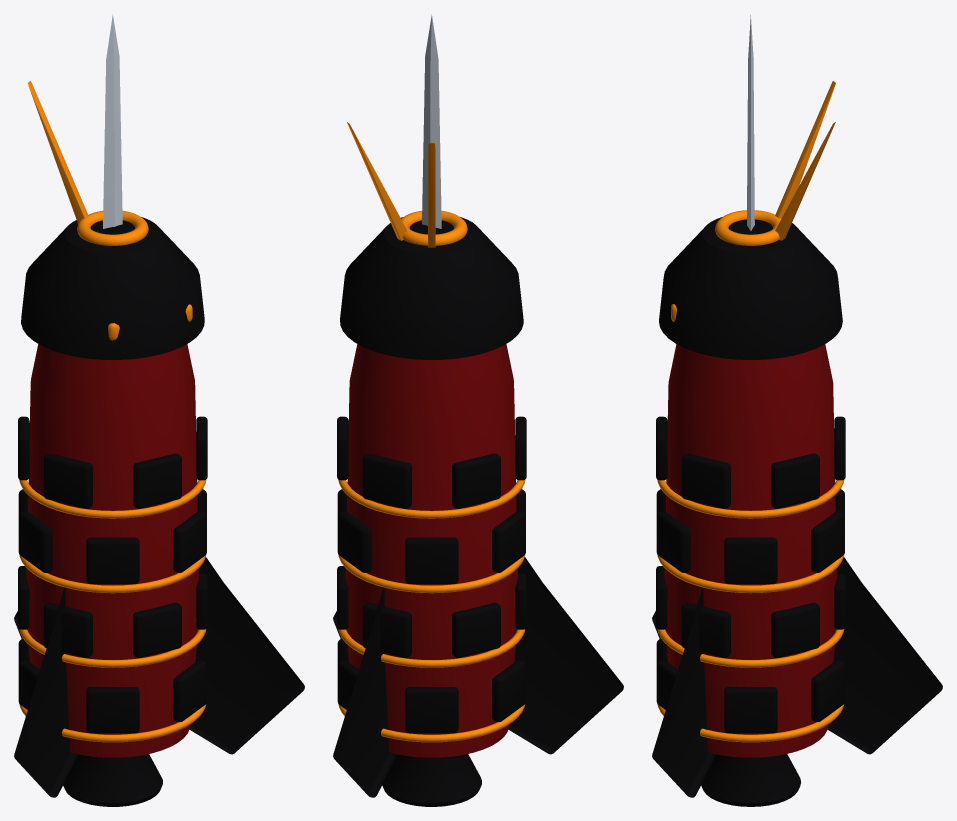
The model's file is Rocket_36_Samurai.obj.
The picture shows the model from 3 angles, left to right: view 1: azimuth 30°, elevation 25°; view 2: azimuth 150°, elevation 25°; view 3: azimuth 270°, elevation 25°; orthographic projection.
Visible parts, largest first — view 1: R36_Body, R36_Helmet, R36_Fin_3, R36_Fin_2, R36_Nozzle, R36_Blade, R36_ArmorPlate_5, R36_ArmorPlate_17, R36_ArmorPlate_22, R36_ArmorPlate_23, R36_ArmorPlate_11, R36_ArmorPlate_10 (+14 smaller); view 2: R36_Body, R36_Helmet, R36_Fin_2, R36_Fin, R36_Nozzle, R36_Blade, R36_ArmorPlate_3, R36_ArmorPlate_15, R36_ArmorPlate_20, R36_ArmorPlate_21, R36_ArmorPlate_9, R36_ArmorPlate_8 (+15 smaller); view 3: R36_Body, R36_Helmet, R36_Fin, R36_Fin_3, R36_Nozzle, R36_ArmorPlate_13, R36_ArmorPlate, R36_ArmorPlate_24, R36_ArmorPlate_19, R36_ArmorPlate_7, R36_ArmorPlate_12, R36_Lace_4 (+15 smaller).
Part boxes in pixels (x1=…): R36_Body: x1=26, y1=344, x2=199, y2=757; R36_Helmet: x1=21, y1=217, x2=204, y2=359; R36_Fin_3: x1=189, y1=557, x2=304, y2=754; R36_Fin_2: x1=14, y1=587, x2=78, y2=797; R36_Nozzle: x1=63, y1=754, x2=162, y2=806; R36_Blade: x1=103, y1=14, x2=122, y2=228; R36_ArmorPlate_5: x1=86, y1=687, x2=139, y2=733; R36_ArmorPlate_17: x1=86, y1=537, x2=139, y2=583; R36_ArmorPlate_22: x1=43, y1=453, x2=92, y2=508; R36_ArmorPlate_23: x1=133, y1=453, x2=181, y2=508; R36_ArmorPlate_11: x1=133, y1=602, x2=181, y2=657; R36_ArmorPlate_10: x1=43, y1=602, x2=92, y2=657; R36_Body: x1=345, y1=344, x2=518, y2=757; R36_Helmet: x1=340, y1=217, x2=523, y2=359; R36_Fin_2: x1=508, y1=557, x2=623, y2=754; R36_Fin: x1=333, y1=587, x2=397, y2=797; R36_Nozzle: x1=382, y1=754, x2=481, y2=806; R36_Blade: x1=422, y1=14, x2=441, y2=228; R36_ArmorPlate_3: x1=405, y1=687, x2=458, y2=733; R36_ArmorPlate_15: x1=405, y1=537, x2=458, y2=583; R36_ArmorPlate_20: x1=362, y1=453, x2=411, y2=508; R36_ArmorPlate_21: x1=452, y1=453, x2=500, y2=508; R36_ArmorPlate_9: x1=452, y1=602, x2=500, y2=657; R36_ArmorPlate_8: x1=362, y1=602, x2=411, y2=657; R36_Body: x1=664, y1=344, x2=837, y2=757; R36_Helmet: x1=659, y1=217, x2=842, y2=359; R36_Fin: x1=827, y1=557, x2=942, y2=754; R36_Fin_3: x1=652, y1=587, x2=716, y2=797; R36_Nozzle: x1=701, y1=754, x2=800, y2=806; R36_ArmorPlate_13: x1=724, y1=537, x2=777, y2=583; R36_ArmorPlate: x1=724, y1=687, x2=777, y2=733; R36_ArmorPlate_24: x1=681, y1=453, x2=730, y2=508; R36_ArmorPlate_19: x1=771, y1=453, x2=819, y2=508; R36_ArmorPlate_7: x1=771, y1=602, x2=819, y2=657; R36_ArmorPlate_12: x1=681, y1=602, x2=730, y2=657; R36_Lace_4: x1=657, y1=480, x2=844, y2=518.
Bounding box in the file's own units: 3.45 × 8.8 × 3.
